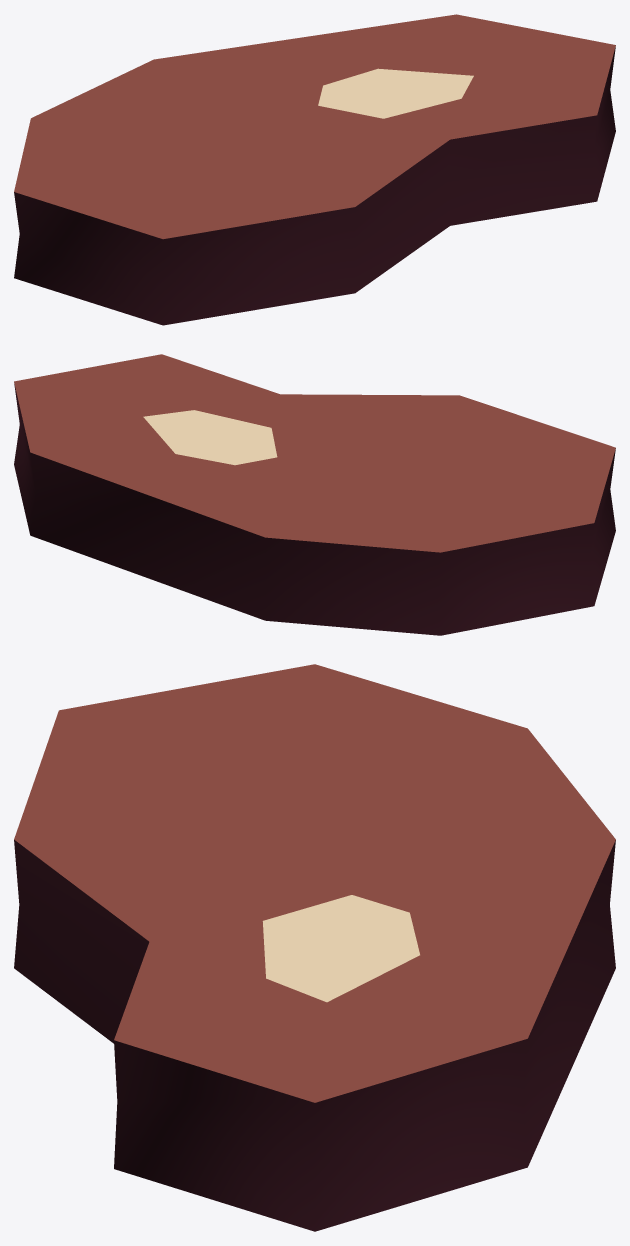
File: Steak_Uncooked.fbx
3 views of the same model, one above another, from view 1: azimuth 30°, elevation 25°; view 2: azimuth 150°, elevation 25°; view 3: azimuth 270°, elevation 25° (orthographic). The views are drawn at different scales.
Visible parts, largest first — view 1: Steak_Uncooked; view 2: Steak_Uncooked; view 3: Steak_Uncooked.
Part boxes in pixels (bbox=[...]): Steak_Uncooked: bbox=[14, 14, 615, 325]; Steak_Uncooked: bbox=[14, 354, 615, 635]; Steak_Uncooked: bbox=[14, 664, 615, 1231].
Bounding box in the file's own units: 213 × 29.16 × 123.
